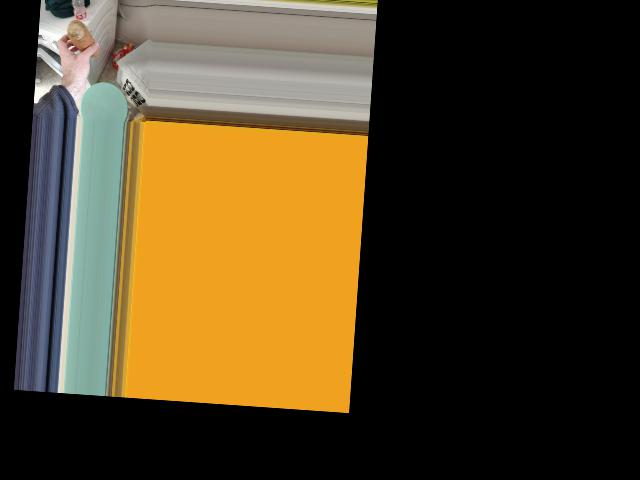sweet_potato: (68, 19, 102, 56)
